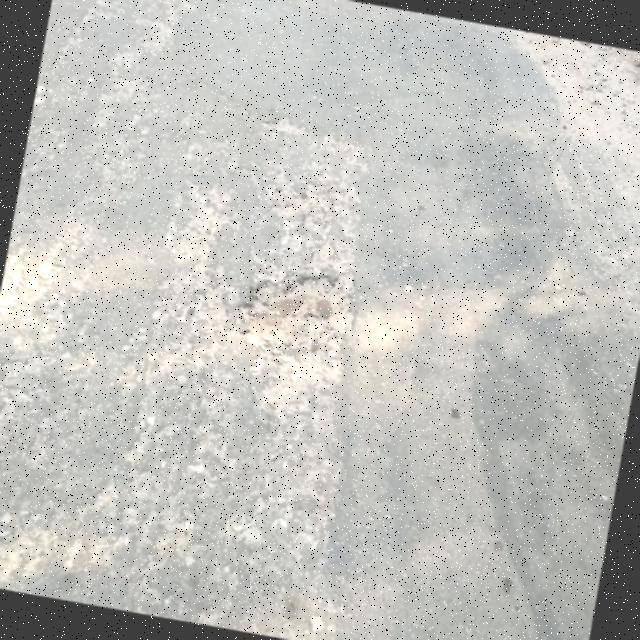Pothole: (233, 275, 353, 352)
